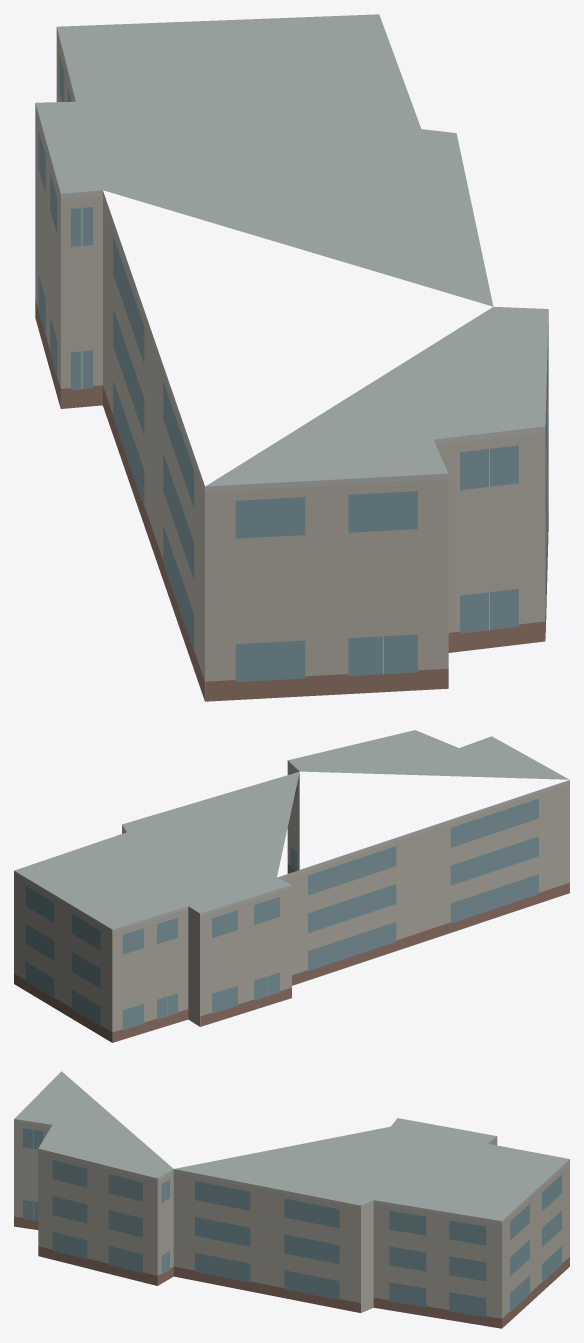
Rendered from survey-upis-32469662.glb.
3 renders of one model, top to bottom at view 1: azimuth 30°, elevation 25°; view 2: azimuth 150°, elevation 25°; view 3: azimuth 270°, elevation 25°, orthographic. The views are drawn at different scales.
Parts seen in each view (by area): view 1: survey-upis-32469662.tmp; view 2: survey-upis-32469662.tmp; view 3: survey-upis-32469662.tmp.
Boxes of the visible parts, x1,y1,x2,y2 form: survey-upis-32469662.tmp: [35, 14, 548, 701]; survey-upis-32469662.tmp: [14, 730, 569, 1042]; survey-upis-32469662.tmp: [14, 1071, 569, 1328].
Bounding box in the file's own units: 27.37 × 9.15 × 42.87.
